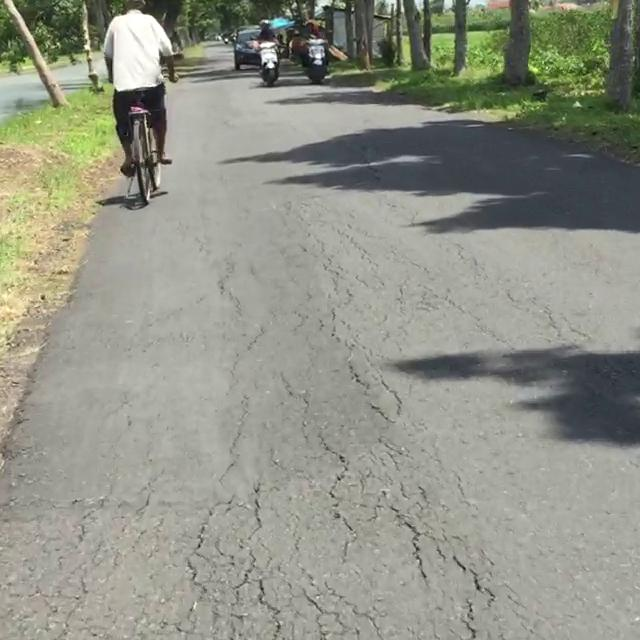retak_kulit_buaya: (144, 410, 521, 640), (256, 211, 417, 419)
